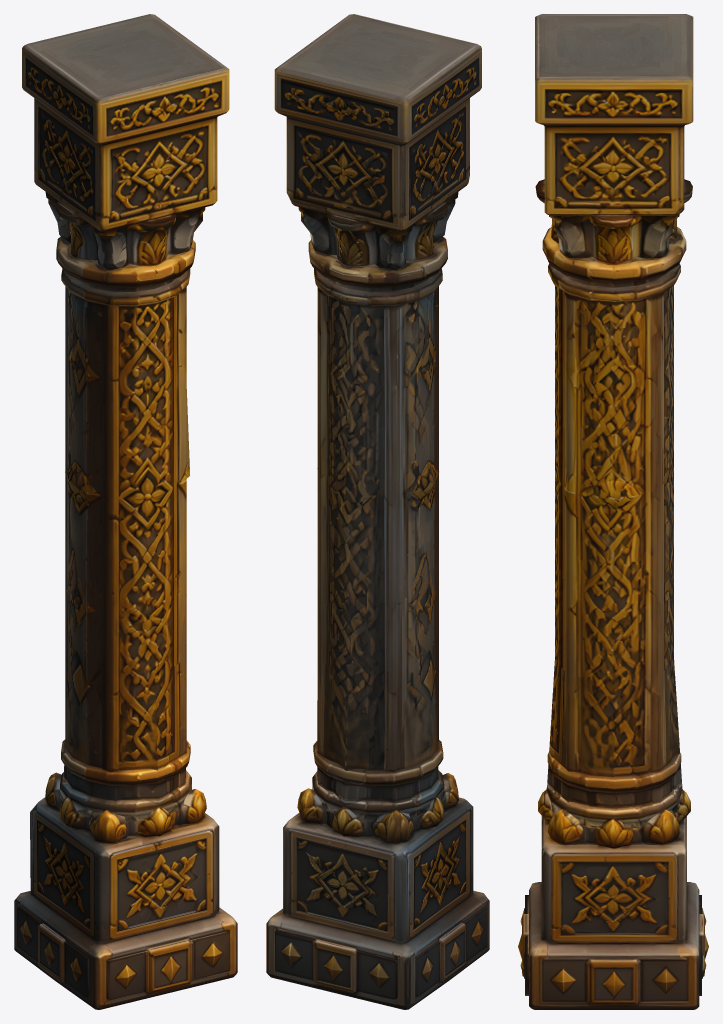
Rendered from ornate+column+3d+model.fbx.
3 renders of one model, left to right at view 1: azimuth 30°, elevation 25°; view 2: azimuth 150°, elevation 25°; view 3: azimuth 270°, elevation 25°, orthographic. The views are drawn at different scales.
Parts seen in each view (by area): view 1: tripo_9701779b_fc99_47ed_83fb_c6340c799105; view 2: tripo_9701779b_fc99_47ed_83fb_c6340c799105; view 3: tripo_9701779b_fc99_47ed_83fb_c6340c799105.
Part boxes in pixels (bbox=[...]): tripo_9701779b_fc99_47ed_83fb_c6340c799105: bbox=[14, 14, 237, 1009]; tripo_9701779b_fc99_47ed_83fb_c6340c799105: bbox=[266, 14, 489, 1009]; tripo_9701779b_fc99_47ed_83fb_c6340c799105: bbox=[518, 14, 708, 1009].
Size of the model in its own units: 0.1841 by 0.9995 by 0.186.
